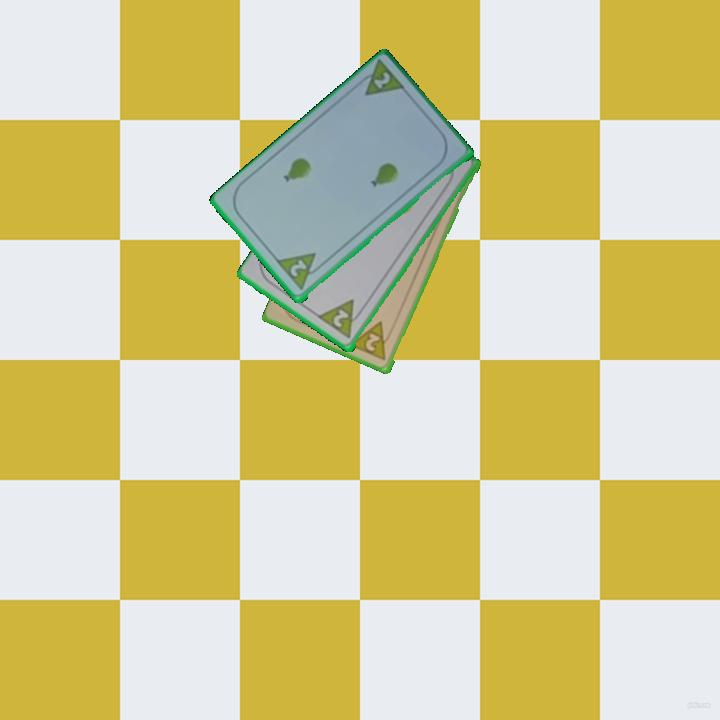2p: (352, 57, 409, 99), (348, 318, 396, 364), (286, 256, 310, 280), (329, 306, 352, 331)
